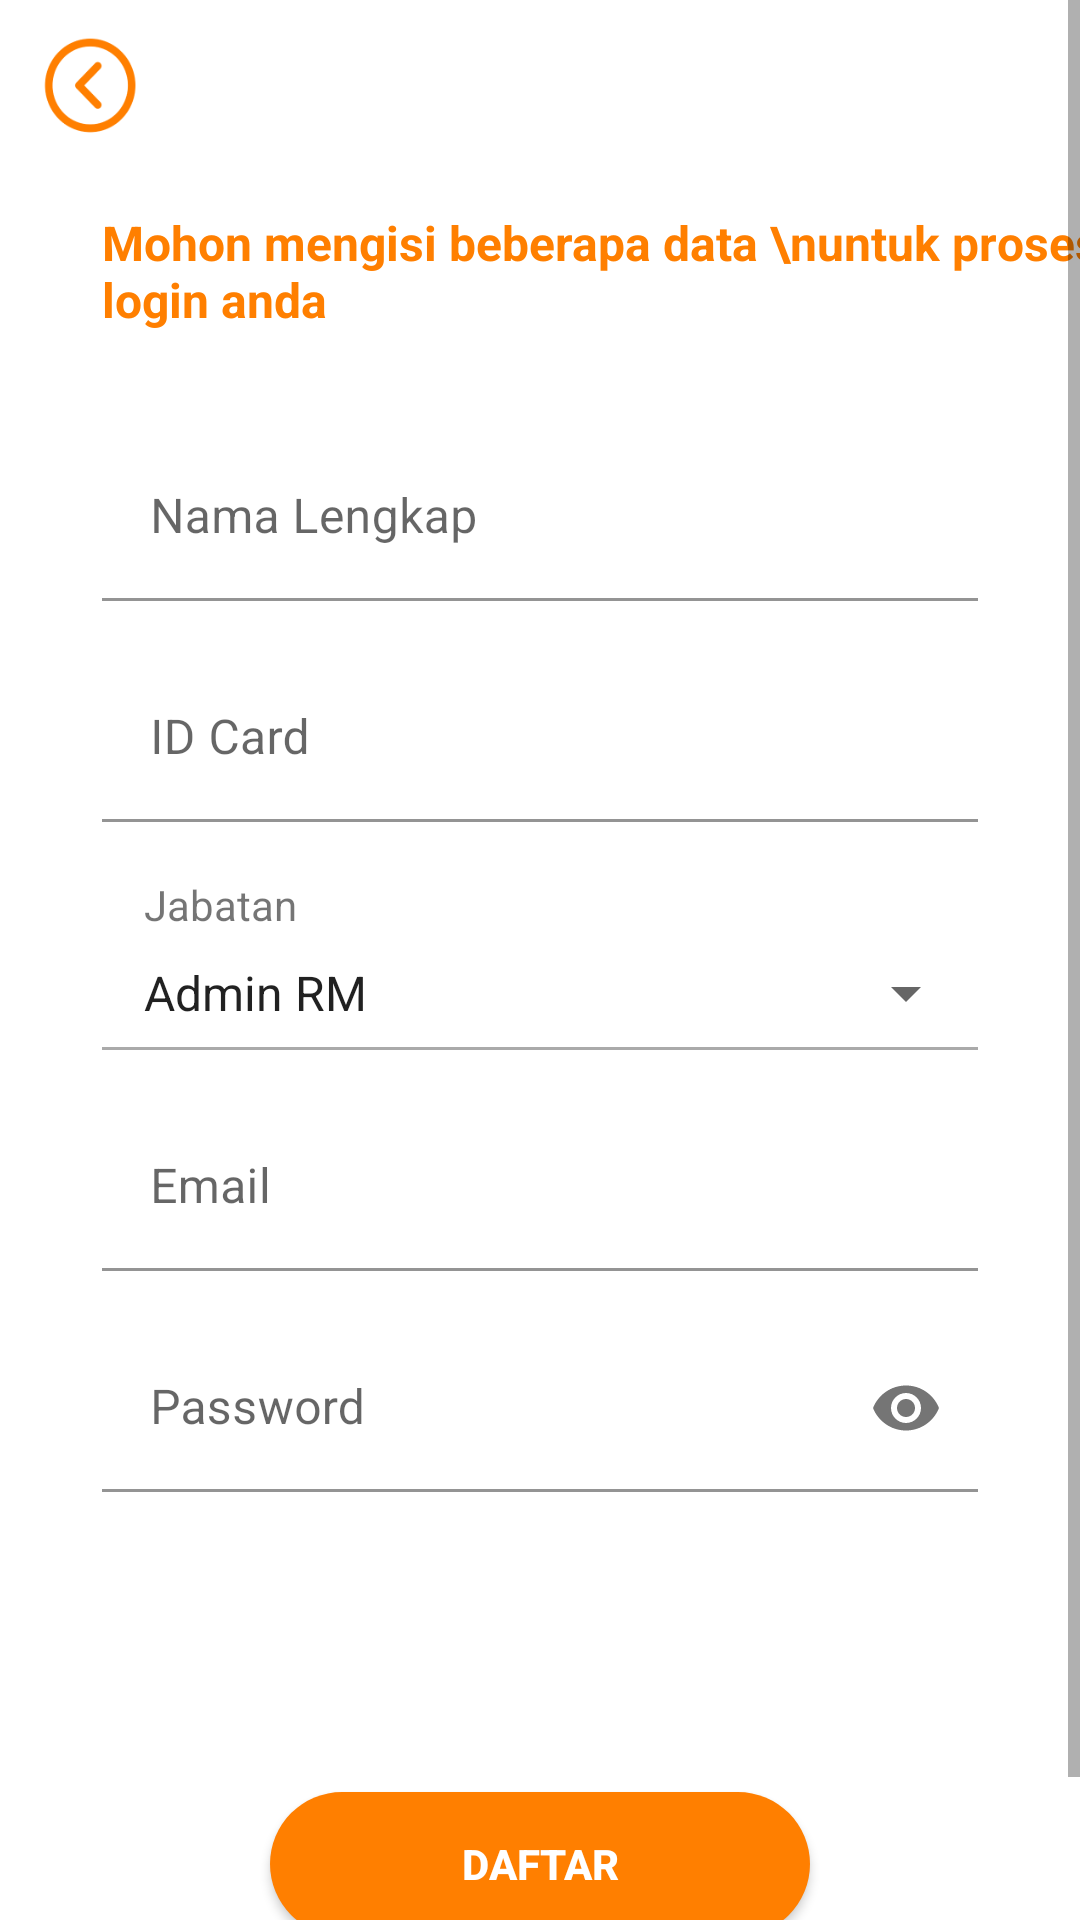

Icons on this 1080 × 1920 Android screen, each with the point to tap as (x,y):
back: (90,85)
